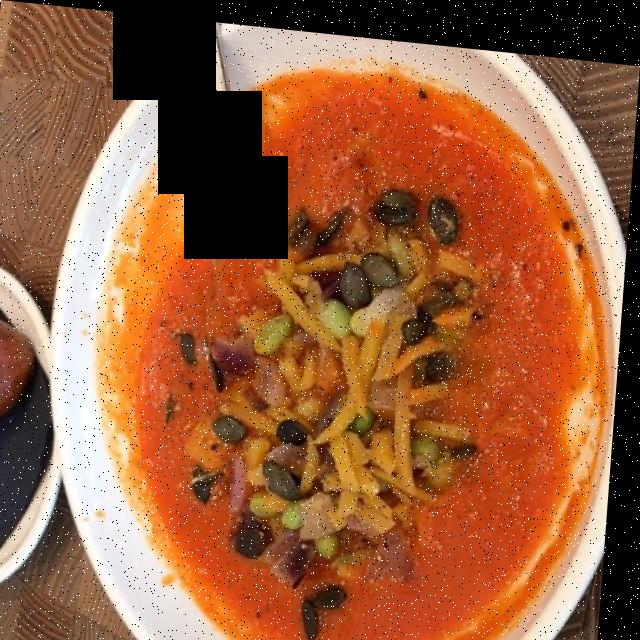mixed-vegetables: (178, 172, 482, 640)
pumpkin-seeds: (172, 171, 484, 638)
soup-tomato: (115, 73, 598, 640)
